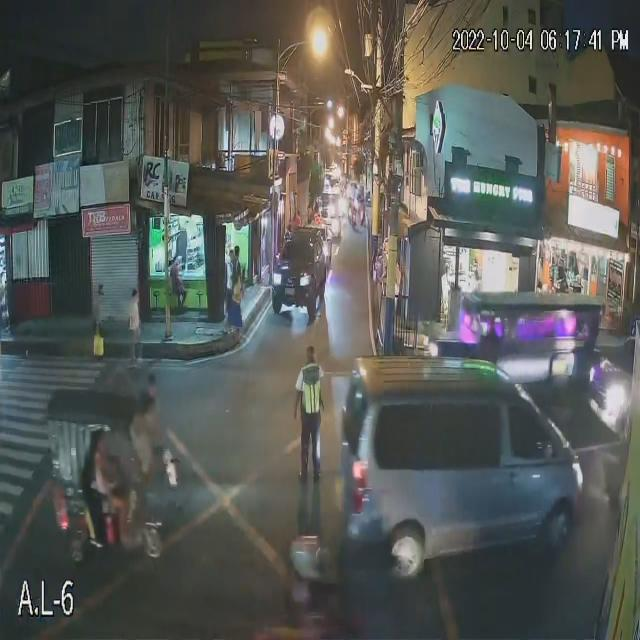helmet: (291, 538, 338, 582)
